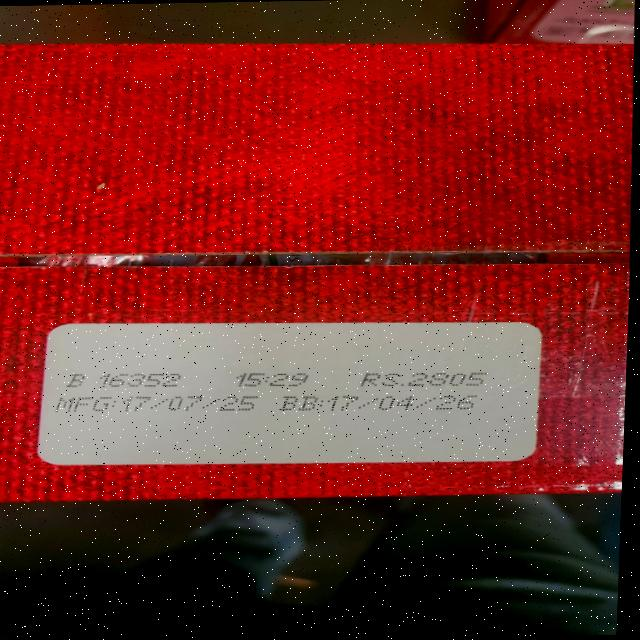BB: (279, 392, 484, 414)
Batch: (64, 371, 187, 389)
MFG: (58, 394, 254, 414)
RS: (360, 370, 491, 388)
TimeStamp: (234, 371, 312, 387)
